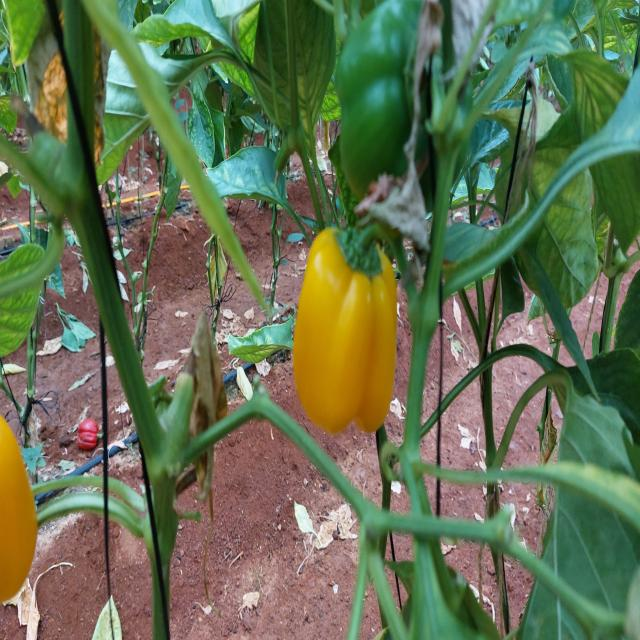Yellow-Ready-to-Harvest: (292, 218, 399, 439)
